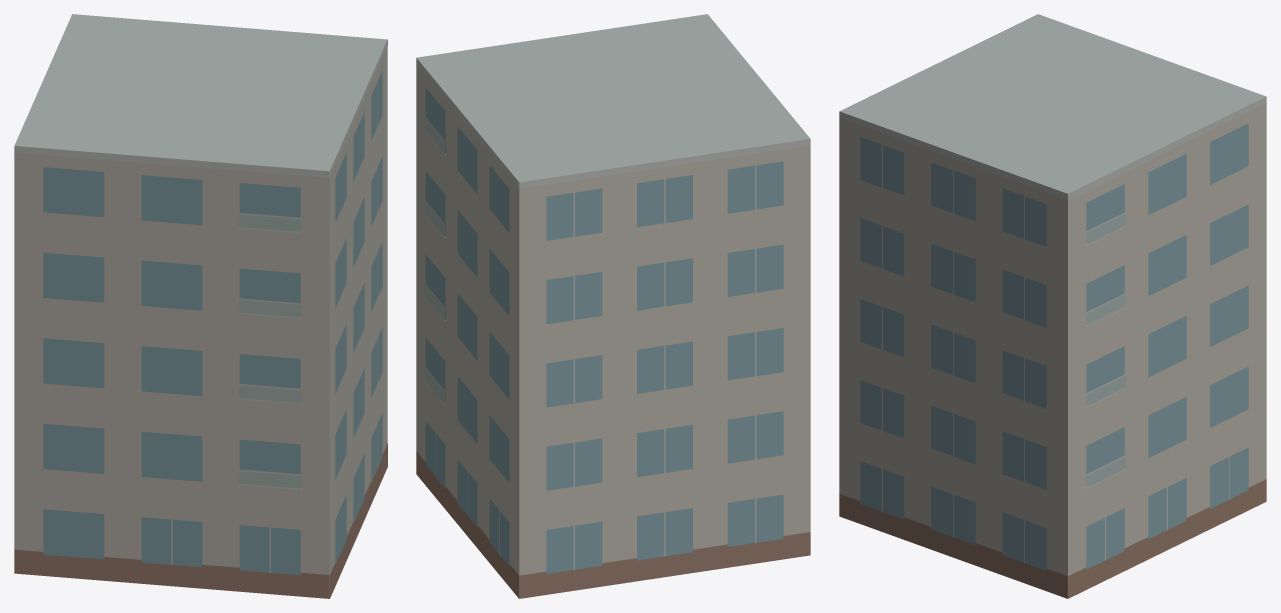
File: survey-upis-32609665.glb
The picture shows the model from 3 angles, left to right: view 1: azimuth 30°, elevation 25°; view 2: azimuth 150°, elevation 25°; view 3: azimuth 270°, elevation 25°; orthographic projection. The views are drawn at different scales.
Visible parts, largest first — view 1: survey-upis-32609665.tmp; view 2: survey-upis-32609665.tmp; view 3: survey-upis-32609665.tmp.
Boxes of the visible parts, x1,y1,x2,y2 form: survey-upis-32609665.tmp: (14, 14, 387, 598); survey-upis-32609665.tmp: (416, 14, 810, 598); survey-upis-32609665.tmp: (839, 14, 1266, 598).
Bounding box in the file's own units: 14.96 × 15.7 × 15.02.
